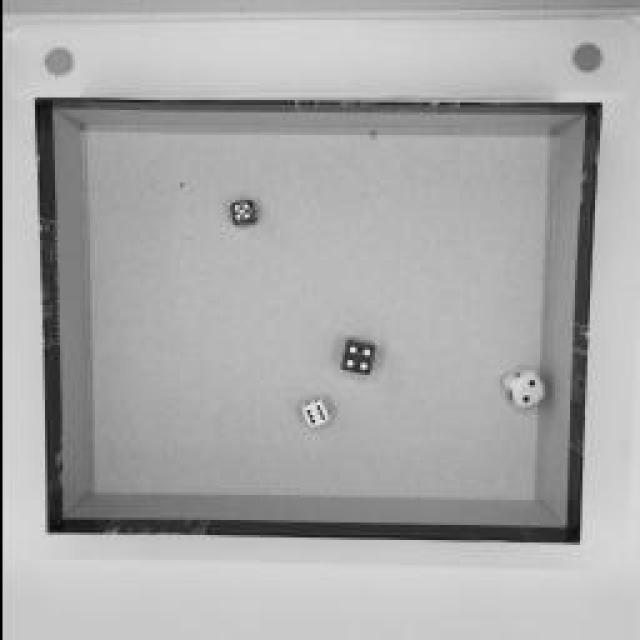dice_2: (498, 361, 542, 411)
dice_4: (338, 335, 380, 377)
dice_5: (229, 200, 256, 225)
dice_6: (298, 395, 330, 427)
